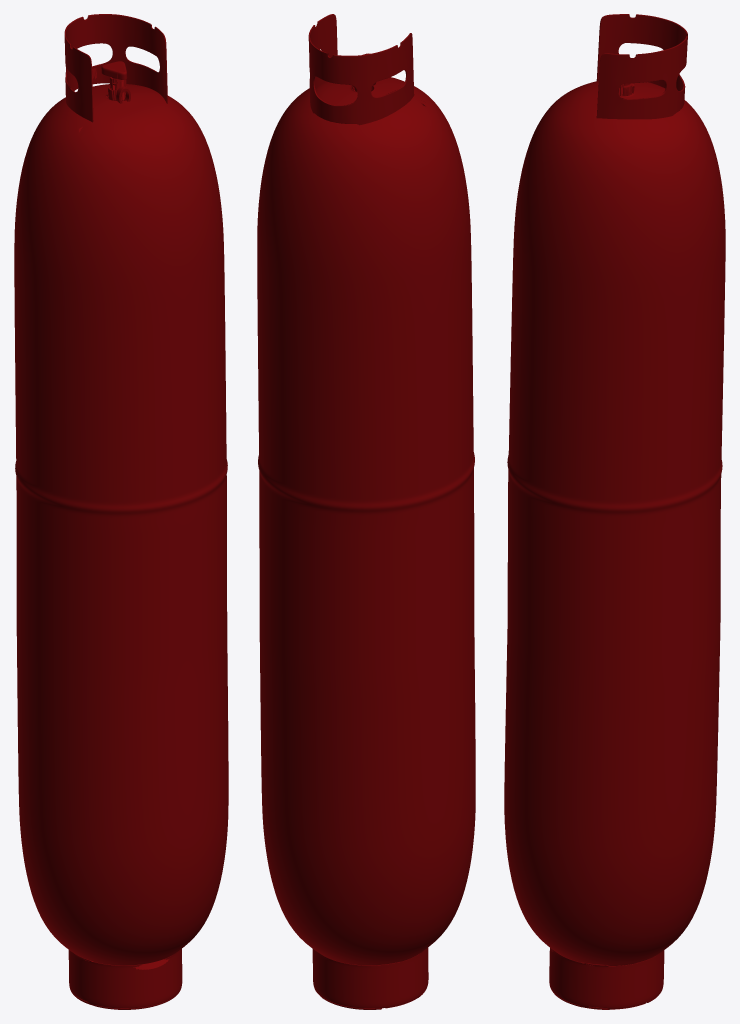
Rendered from бАЛЛОН.fbx.
The picture shows the model from 3 angles, left to right: view 1: azimuth 30°, elevation 25°; view 2: azimuth 150°, elevation 25°; view 3: azimuth 270°, elevation 25°; orthographic projection. The views are drawn at different scales.
Parts seen in each view (by area): view 1: 14098_Propane_Tank_V1_l3.002; view 2: 14098_Propane_Tank_V1_l3.002; view 3: 14098_Propane_Tank_V1_l3.002.
Part boxes in pixels (left/top/right/bottom): 14098_Propane_Tank_V1_l3.002: left=14, top=14, right=228, bottom=1009; 14098_Propane_Tank_V1_l3.002: left=257, top=14, right=475, bottom=1009; 14098_Propane_Tank_V1_l3.002: left=504, top=14, right=725, bottom=1009.
Size of the model in its own units: 149 by 728 by 153.
